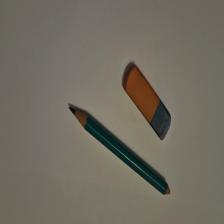eraser: (124, 67, 172, 142)
pencil: (70, 107, 171, 197)
